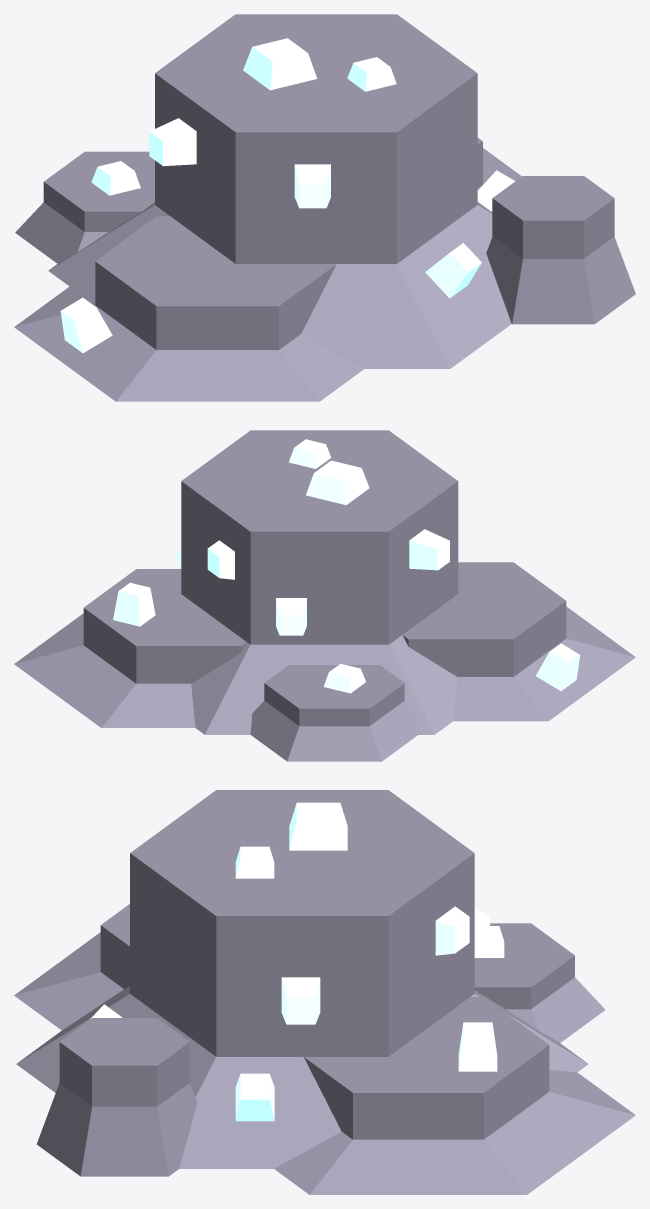
Rendered from rock_crystals.glb.
3 renders of one model, top to bottom at view 1: azimuth 30°, elevation 25°; view 2: azimuth 150°, elevation 25°; view 3: azimuth 270°, elevation 25°, orthographic. The views are drawn at different scales.
Visible parts, largest first — view 1: rock_crystals; view 2: rock_crystals; view 3: rock_crystals.
Boxes of the visible parts, left/top/right/bottom form: rock_crystals: left=14, top=14, right=635, bottom=401; rock_crystals: left=14, top=430, right=635, bottom=761; rock_crystals: left=14, top=790, right=635, bottom=1194.
Size of the model in its own units: 0.8509 by 0.3375 by 0.8015.
